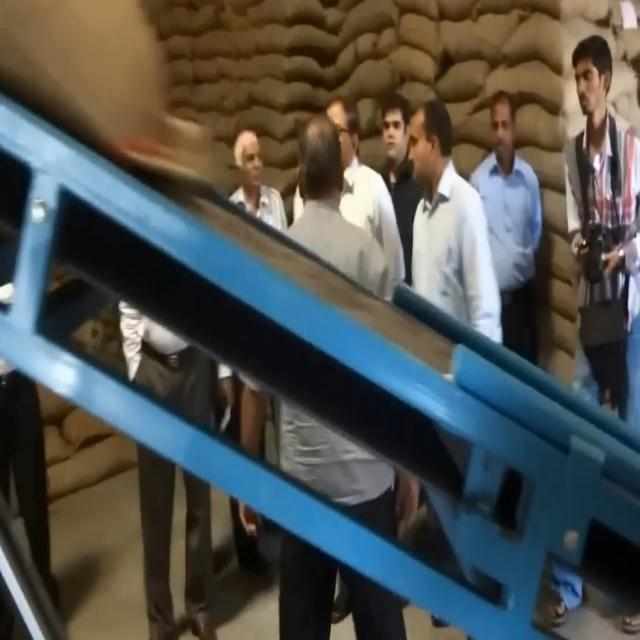gunny_bag: (2, 0, 240, 190)
